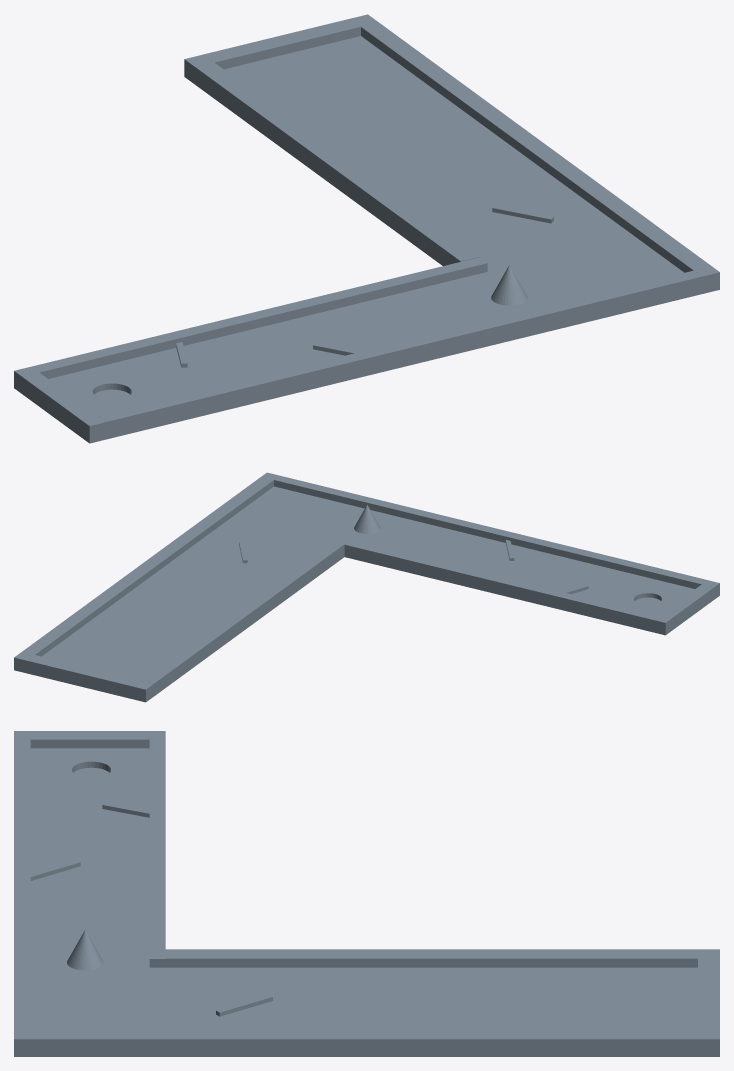
File: golfvr-piste3.glb
The picture shows the model from 3 angles, top to bottom: view 1: azimuth 30°, elevation 25°; view 2: azimuth 150°, elevation 25°; view 3: azimuth 270°, elevation 25°; orthographic projection. The views are drawn at different scales.
Parts seen in each view (by area): view 1: Cube, Cone; view 2: Cube, Cone; view 3: Cube, Cone.
Part boxes in pixels (x1=…): Cube: x1=14, y1=14, x2=719, y2=443; Cone: x1=491, y1=265, x2=527, y2=305; Cube: x1=14, y1=472, x2=719, y2=702; Cone: x1=354, y1=505, x2=380, y2=533; Cube: x1=14, y1=731, x2=719, y2=1056; Cone: x1=67, y1=929, x2=103, y2=970.
Bounding box in the file's own units: 4 × 0.2541 × 3.87.
